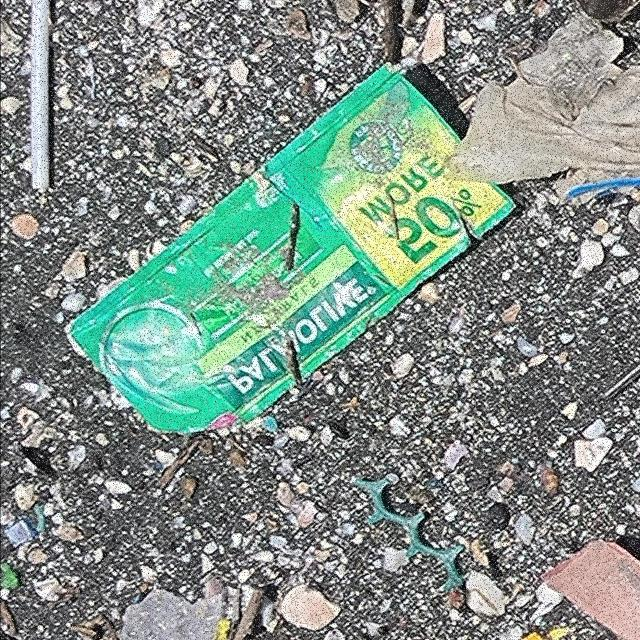plastic_waste: (68, 63, 515, 438), (32, 1, 52, 191)
